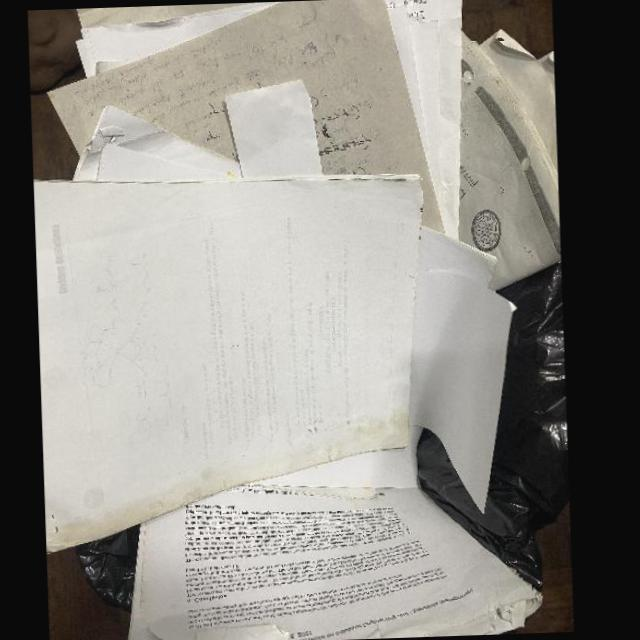giay: (33, 174, 421, 555), (48, 0, 446, 325), (126, 483, 543, 640), (457, 27, 559, 291), (409, 271, 517, 515), (225, 80, 323, 178)
